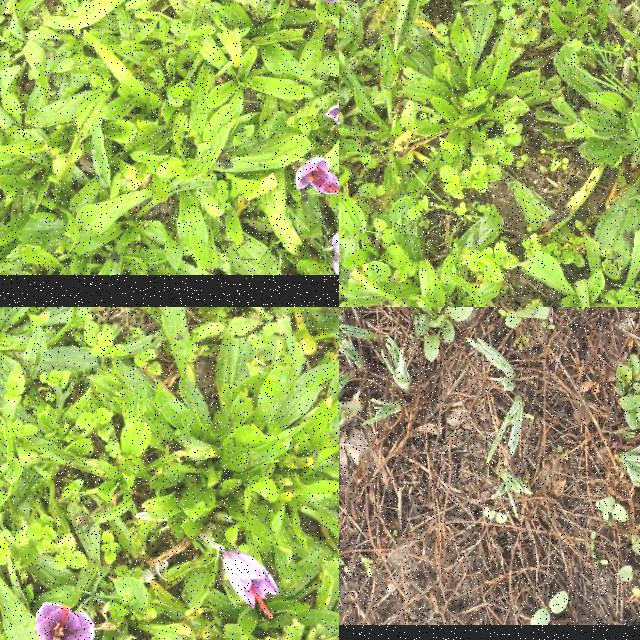flower: (223, 548, 281, 620), (36, 603, 95, 640), (295, 156, 339, 196), (324, 103, 339, 128)
